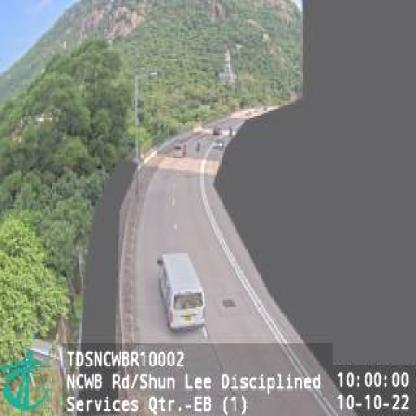Car: (156, 249, 206, 332), (173, 142, 187, 158)
